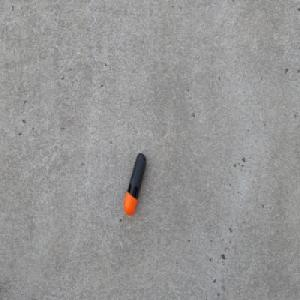PlasticPart: (123, 152, 146, 216)
